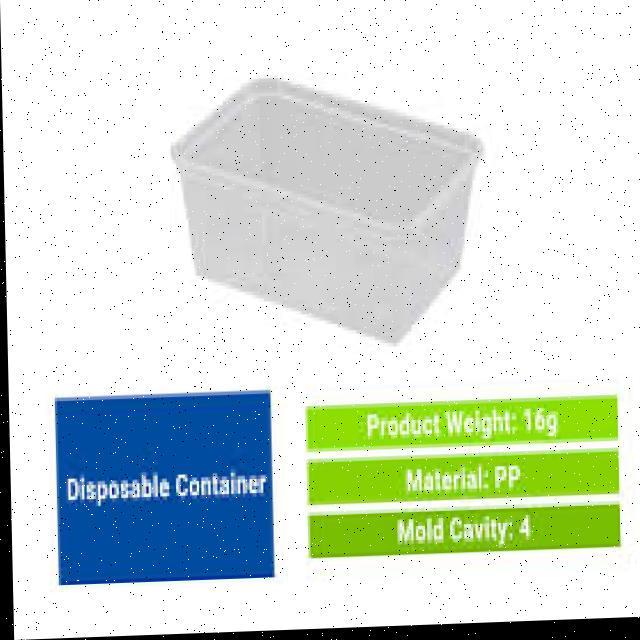disposable: (168, 62, 493, 356)
